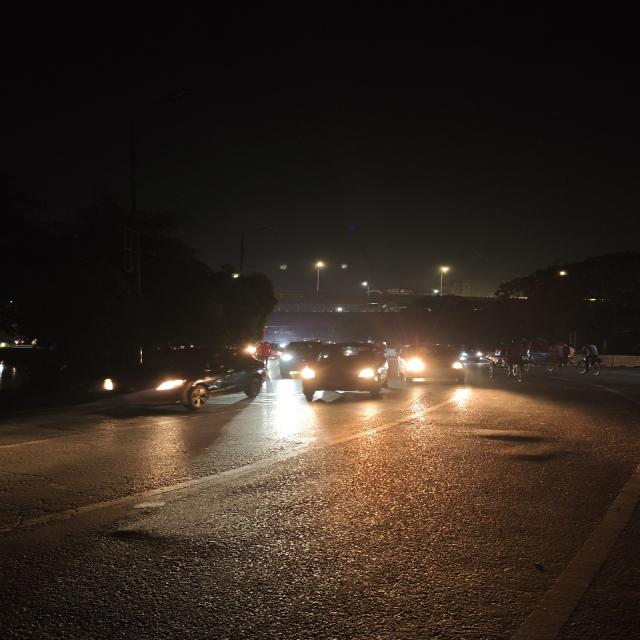bicycle: (576, 342, 605, 378)
car: (103, 345, 271, 417), (398, 342, 470, 385)
rickshaw: (482, 351, 532, 384), (546, 342, 573, 372)
truck: (284, 340, 396, 406)
